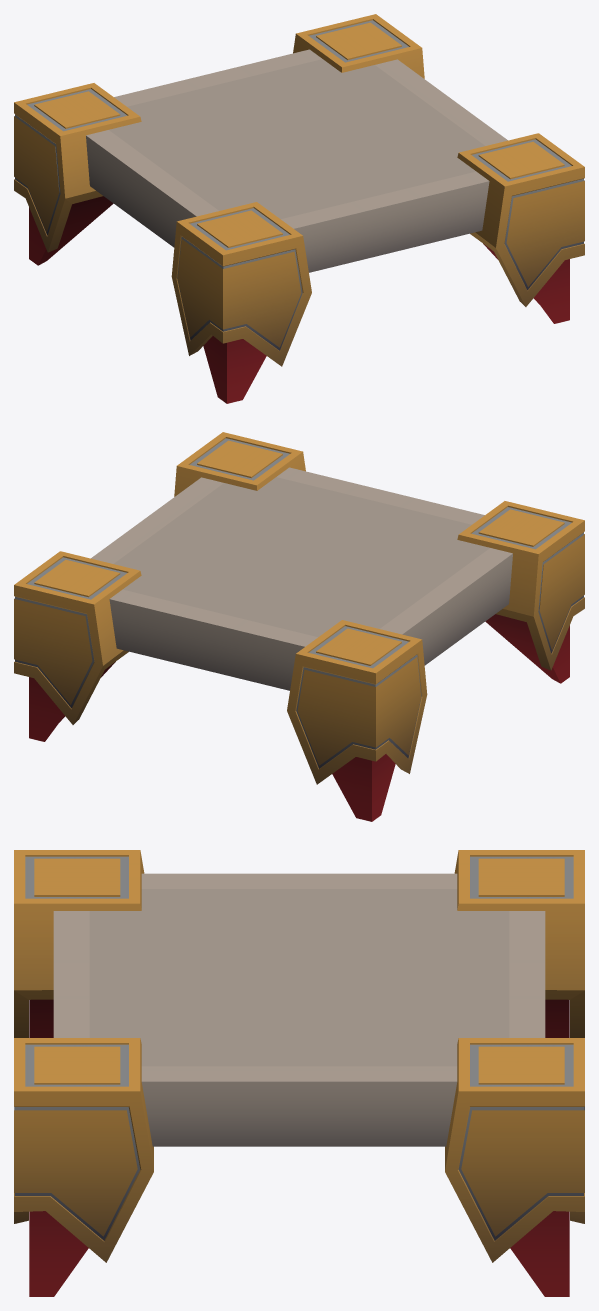
File: Plataforma_Mov.fbx
3 renders of one model, top to bottom at view 1: azimuth 30°, elevation 25°; view 2: azimuth 150°, elevation 25°; view 3: azimuth 270°, elevation 25°, orthographic. The views are drawn at different scales.
Visible parts, largest first — view 1: Plataforma_Mov; view 2: Plataforma_Mov; view 3: Plataforma_Mov.
Part boxes in pixels (box(x1,y1,x2,y2)): Plataforma_Mov: box(14, 14, 584, 403); Plataforma_Mov: box(14, 432, 584, 821); Plataforma_Mov: box(14, 850, 584, 1296).
Size of the model in its own units: 600 by 245 by 600.
